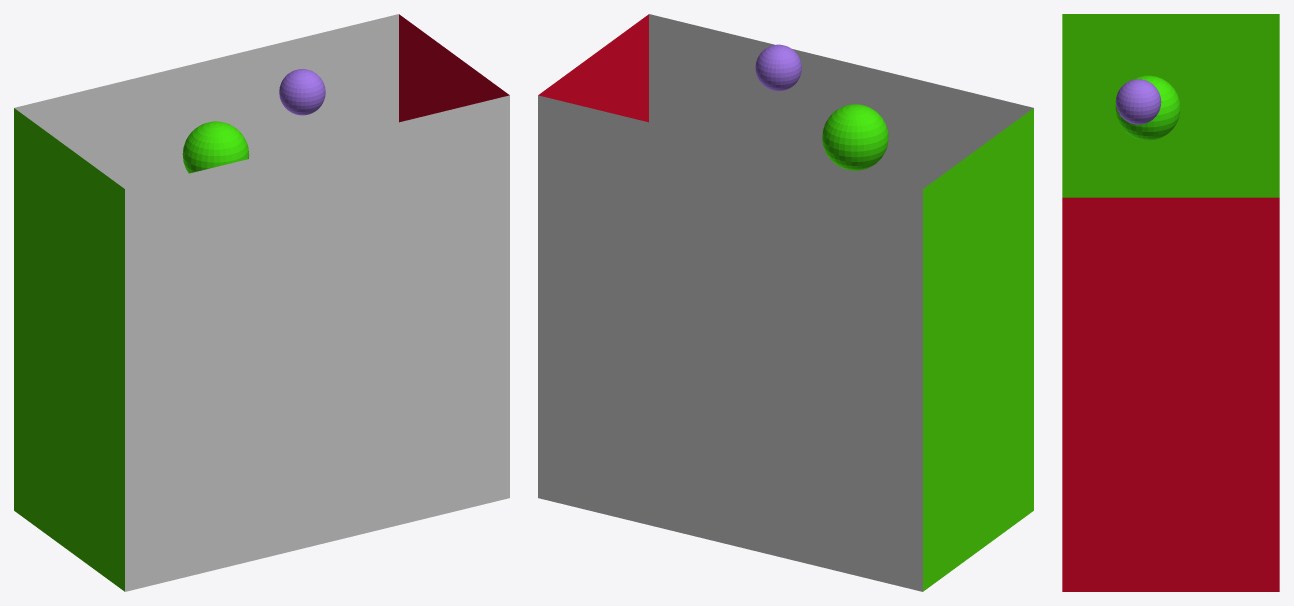
The model's file is path_tracing_scene_2_spheres.dae.
3 renders of one model, left to right at view 1: azimuth 30°, elevation 25°; view 2: azimuth 150°, elevation 25°; view 3: azimuth 270°, elevation 25°, orthographic. The views are drawn at different scales.
Parts seen in each view (by area): view 1: Cube.002, Sphere.002, Sphere.001; view 2: Cube.002, Sphere.002, Sphere.001; view 3: Cube.002, Sphere.002, Sphere.001.
Boxes of the visible parts, left/top/right/bottom form: Cube.002: left=14, top=14, right=509, bottom=591; Sphere.002: left=182, top=121, right=249, bottom=173; Sphere.001: left=279, top=69, right=325, bottom=115; Cube.002: left=538, top=14, right=1033, bottom=591; Sphere.002: left=822, top=104, right=888, bottom=170; Sphere.001: left=755, top=44, right=801, bottom=91; Cube.002: left=1062, top=14, right=1279, bottom=591; Sphere.002: left=1115, top=75, right=1180, bottom=140; Sphere.001: left=1115, top=79, right=1161, bottom=124.
Bounding box in the file's own units: 2 × 1 × 2.18.
